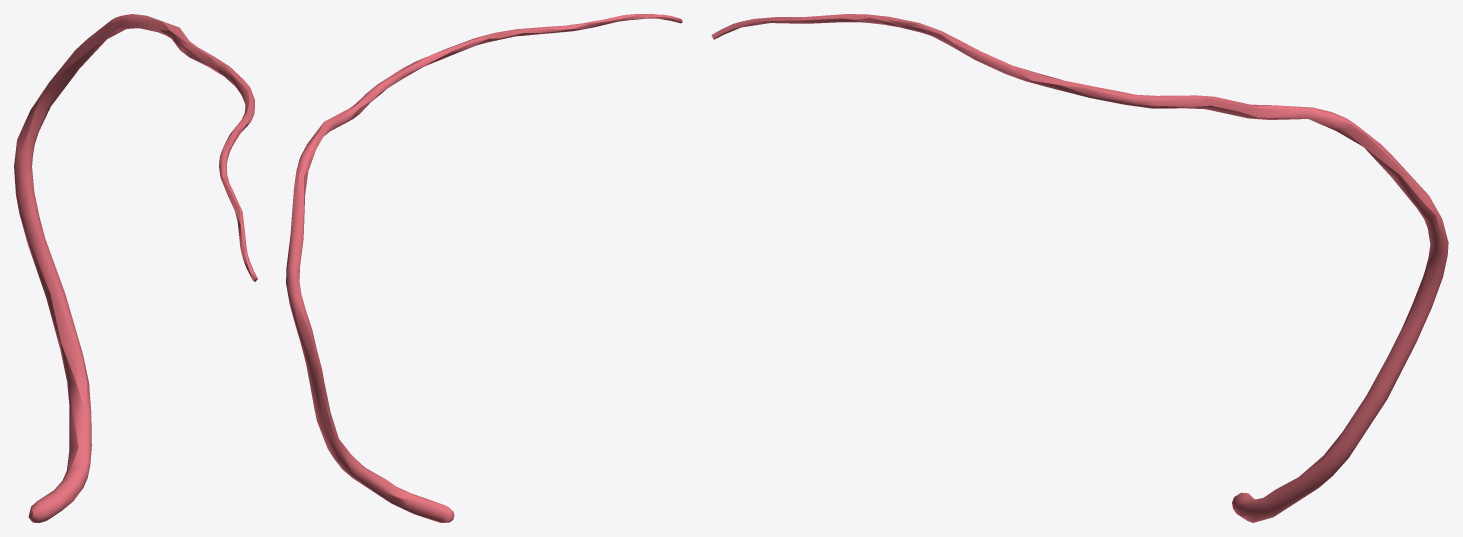
File: fma14747_fj3514.glb
3 views of the same model, side by side, from view 1: azimuth 30°, elevation 25°; view 2: azimuth 150°, elevation 25°; view 3: azimuth 270°, elevation 25° (orthographic). The views are drawn at different scales.
Visible parts, largest first — view 1: FMA14747_FJ3514; view 2: FMA14747_FJ3514; view 3: FMA14747_FJ3514.
Boxes of the visible parts, x1,y1,x2,y2 form: FMA14747_FJ3514: (14,14,257,522); FMA14747_FJ3514: (286,14,682,522); FMA14747_FJ3514: (711,14,1448,522).
Bounding box in the file's own units: 0.0359 × 0.0895 × 0.1175.
